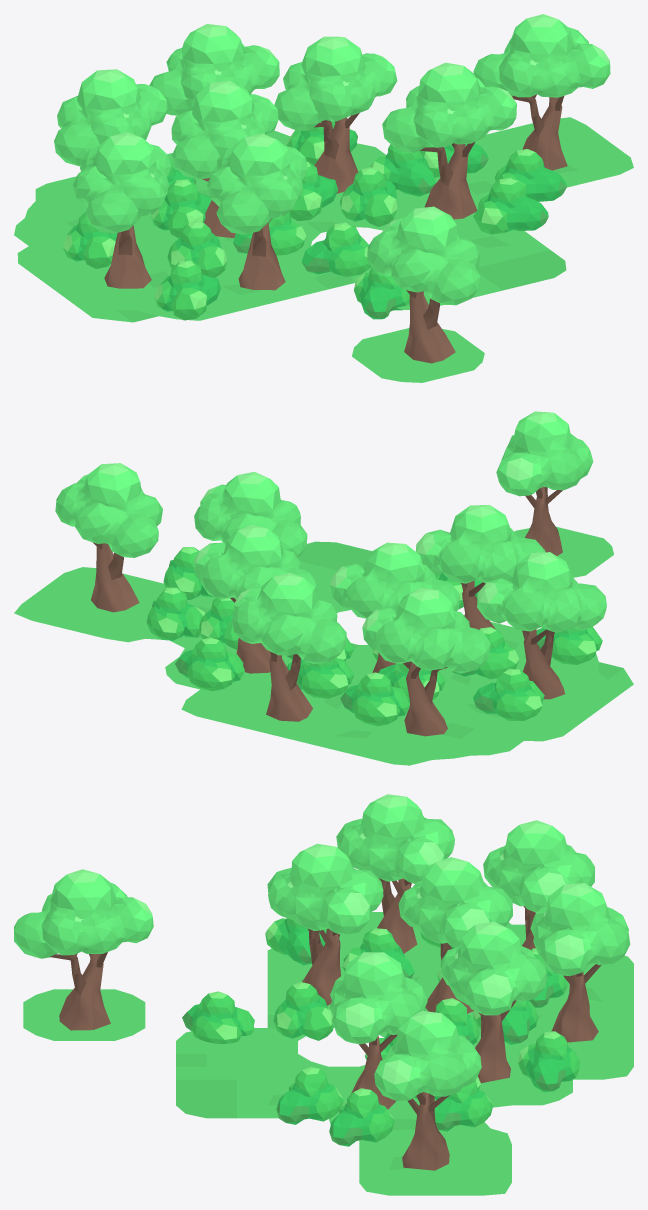
Rendered from object_fgoty.gltf.
The picture shows the model from 3 angles, top to bottom: view 1: azimuth 30°, elevation 25°; view 2: azimuth 150°, elevation 25°; view 3: azimuth 270°, elevation 25°; orthographic projection. The views are drawn at different scales.
Visible parts, largest first — view 1: forest, shadow_grass, cysts; view 2: forest, shadow_grass, cysts; view 3: forest, shadow_grass, cysts.
Part boxes in pixels (bbox=[...]): forest: bbox=[54, 14, 610, 363]; shadow_grass: bbox=[14, 117, 633, 382]; cysts: bbox=[63, 121, 566, 320]; forest: bbox=[55, 411, 606, 736]; shadow_grass: bbox=[14, 526, 633, 765]; cysts: bbox=[146, 547, 602, 726]; forest: bbox=[14, 794, 630, 1170]; shadow_grass: bbox=[23, 912, 633, 1195]; cysts: bbox=[182, 918, 579, 1146].
Size of the model in its own units: 20.62 by 5.36 by 19.04.
